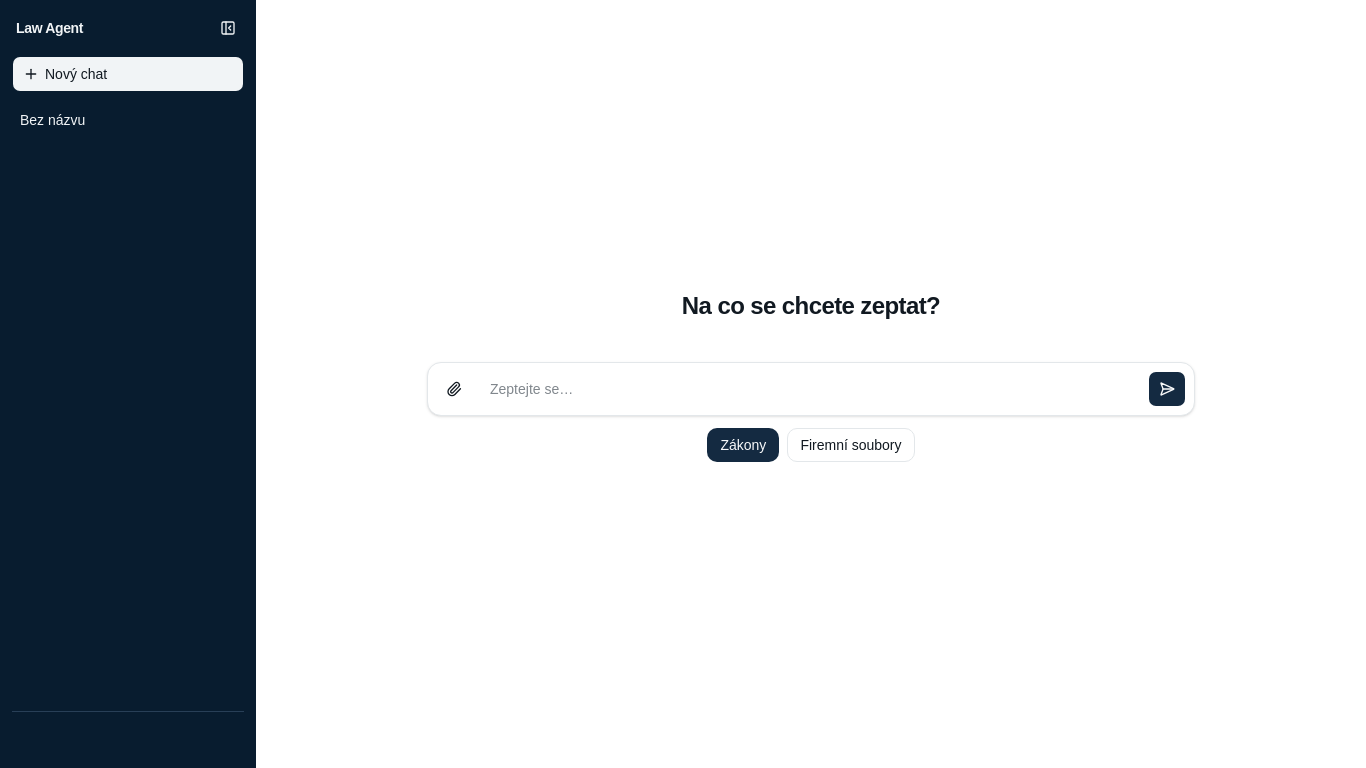
Test: sending the first message of a new chat › keeps the streaming turn visible across the navigation to the thread
This screenshot has width=1366, height=768.
Type "Je smlouva platná?" into the text box with placeholder "Zeptejte se…".
click(810, 389); type("Je smlouva platná?")  # box [480,371,1140,407]
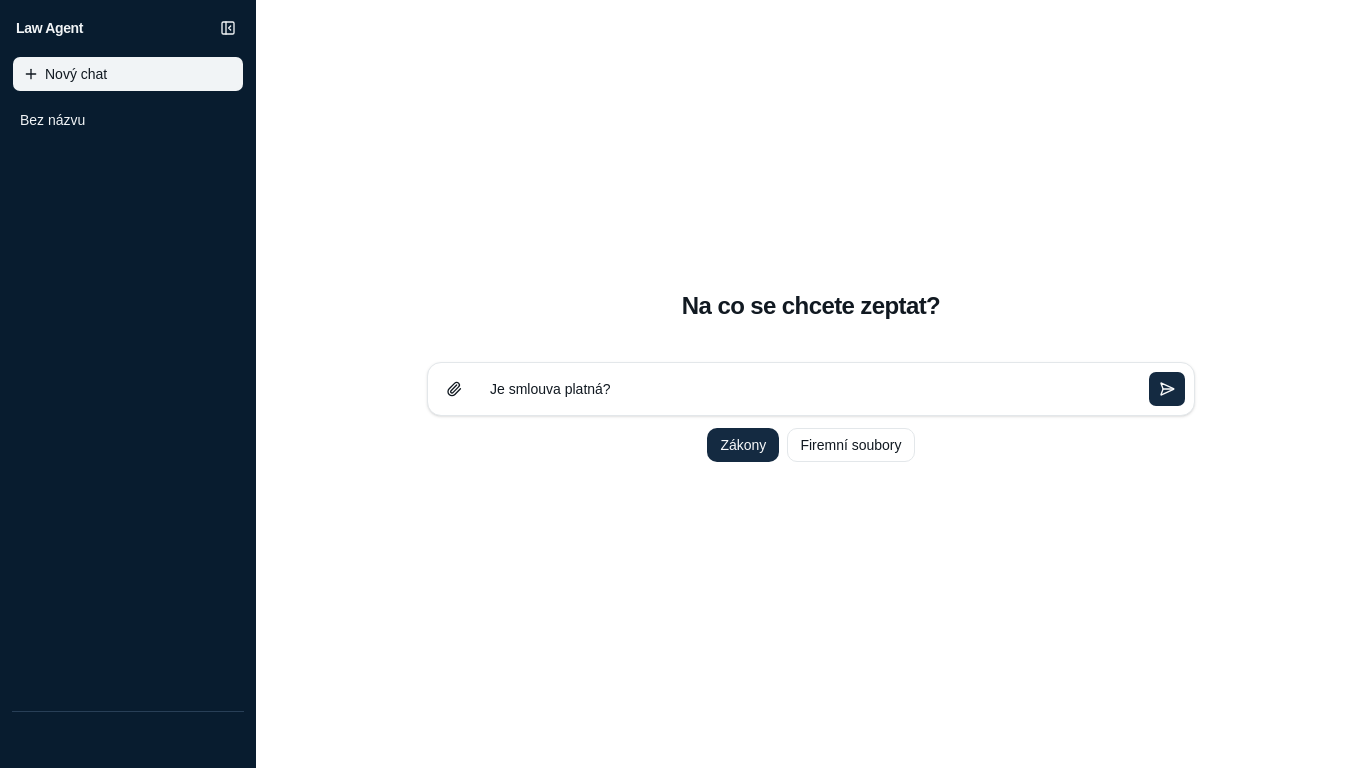
Press Enter
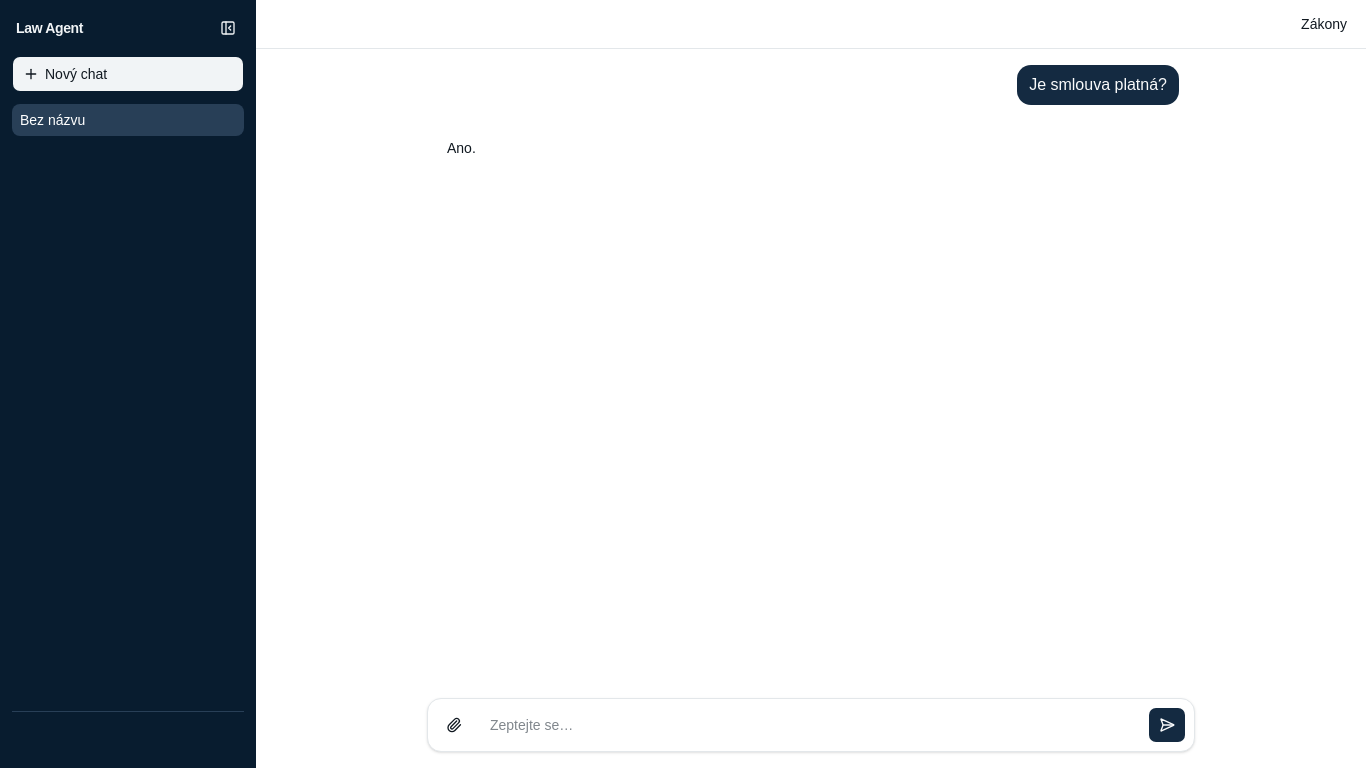
Expected: the text "Je smlouva platná?" is shown, [1017,65,1179,105]
Expected: the heading "Na co se chcete zeptat?" is gone
Expected: the text "Ano." is shown, [447,140,476,156]
